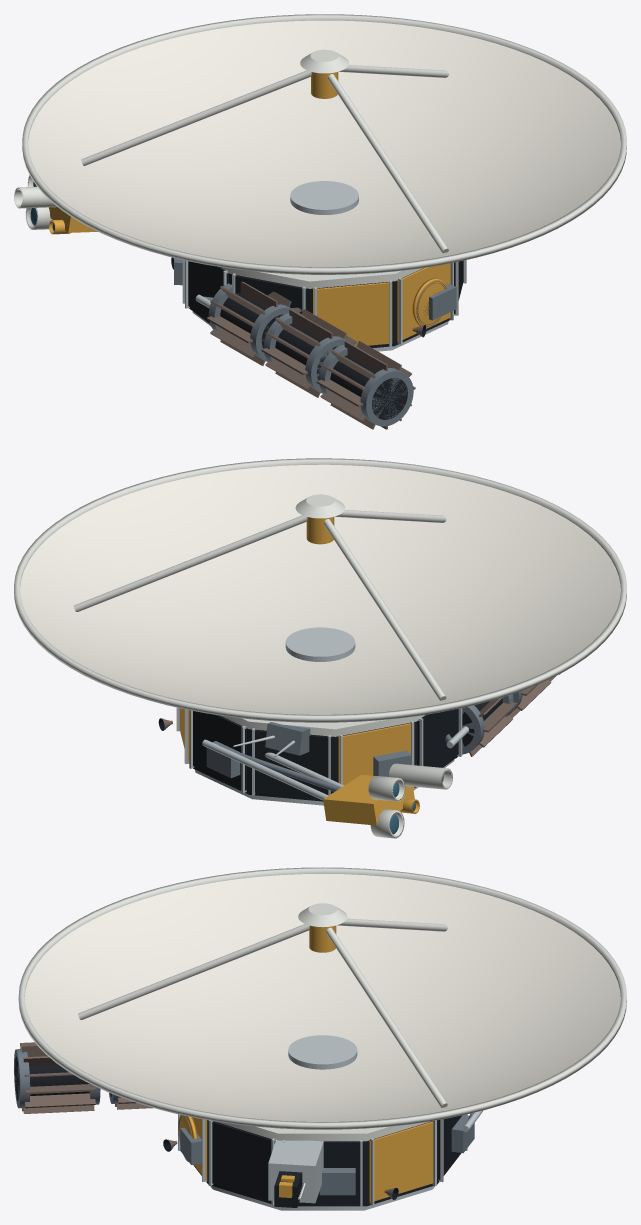
The model's file is voyager_probe.glb.
3 views of the same model, one above another, from view 1: azimuth 30°, elevation 25°; view 2: azimuth 150°, elevation 25°; view 3: azimuth 270°, elevation 25° (orthographic).
Parts seen in each view (by area): view 1: voyager_hgamesh_Warm_white_enamel, voyager_hgamesh_Pale_thermal_blanket, voyager_busequipment_bay_10mesh_Gold_thermal_insulation, voyager_rtg_boomdeploymentrtg_03mesh_Heat-stained_alloy, voyager_rtg_boomdeploymentrtg_02mesh_Heat-stained_alloy, voyager_rtg_boomdeploymentrtg_01mesh_Heat-stained_alloy, voyager_rtg_boomdeploymentrtg_03mesh_Machined_steel, voyager_busmesh_Pale_thermal_blanket, voyager_hgamesh_Satin_aluminum, voyager_rtg_boomdeploymentrtg_03mesh_Carbon_composite, voyager_busequipment_bay_01mesh_Gold_thermal_insulation, voyager_busequipment_bay_08mesh_Carbon_composite (+11 smaller); view 2: voyager_hgamesh_Warm_white_enamel, voyager_hgamesh_Pale_thermal_blanket, voyager_busequipment_bay_06mesh_Carbon_composite, voyager_busequipment_bay_07mesh_Gold_thermal_insulation, voyager_scan_platformboomazimuthelevationmesh_Gold_thermal_i, voyager_busequipment_bay_05mesh_Carbon_composite, voyager_hgamesh_Satin_aluminum, voyager_busequipment_bay_08mesh_Carbon_composite, voyager_busmesh_Pale_thermal_blanket, voyager_scan_platformboommesh_Satin_aluminum, voyager_busmesh_Carbon_composite, voyager_scan_platformboomazimuthelevationnarrow_anglemesh_Pa (+11 smaller); view 3: voyager_hgamesh_Warm_white_enamel, voyager_hgamesh_Pale_thermal_blanket, voyager_busequipment_bay_04mesh_Gold_thermal_insulation, voyager_busequipment_bay_02mesh_Carbon_composite, voyager_rtg_boomdeploymentrtg_03mesh_Heat-stained_alloy, voyager_mag_boommesh_Satin_aluminum, voyager_hgamesh_Satin_aluminum, voyager_busmesh_Pale_thermal_blanket, voyager_busequipment_bay_03mesh_Carbon_composite, voyager_busmesh_Carbon_composite, voyager_rtg_boomdeploymentrtg_03mesh_Carbon_composite, voyager_busequipment_bay_03mesh_Machined_steel (+9 smaller).
Part boxes in pixels (box(x1,y1,x2,y2)): voyager_hgamesh_Warm_white_enamel: box(28, 20, 620, 267); voyager_hgamesh_Pale_thermal_blanket: box(22, 14, 626, 274); voyager_busequipment_bay_10mesh_Gold_thermal_insulation: box(313, 282, 392, 345); voyager_rtg_boomdeploymentrtg_03mesh_Heat-stained_alloy: box(316, 341, 415, 429); voyager_rtg_boomdeploymentrtg_02mesh_Heat-stained_alloy: box(261, 309, 356, 397); voyager_rtg_boomdeploymentrtg_01mesh_Heat-stained_alloy: box(206, 281, 301, 365); voyager_rtg_boomdeploymentrtg_03mesh_Machined_steel: box(319, 344, 413, 426); voyager_busmesh_Pale_thermal_blanket: box(221, 267, 422, 288); voyager_hgamesh_Satin_aluminum: box(290, 181, 358, 214); voyager_rtg_boomdeploymentrtg_03mesh_Carbon_composite: box(330, 355, 407, 419); voyager_busequipment_bay_01mesh_Gold_thermal_insulation: box(397, 263, 450, 341); voyager_busequipment_bay_08mesh_Carbon_composite: box(188, 261, 228, 318); voyager_hgamesh_Warm_white_enamel: box(20, 464, 620, 714); voyager_hgamesh_Pale_thermal_blanket: box(14, 458, 626, 722); voyager_busequipment_bay_06mesh_Carbon_composite: box(255, 730, 332, 797); voyager_busequipment_bay_07mesh_Gold_thermal_insulation: box(338, 723, 410, 785); voyager_scan_platformboomazimuthelevationmesh_Gold_thermal_i: box(323, 774, 414, 825); voyager_busequipment_bay_05mesh_Carbon_composite: box(193, 711, 246, 790); voyager_hgamesh_Satin_aluminum: box(285, 627, 355, 661); voyager_busequipment_bay_08mesh_Carbon_composite: box(417, 709, 458, 767); voyager_busmesh_Pale_thermal_blanket: box(220, 715, 424, 736); voyager_scan_platformboommesh_Satin_aluminum: box(202, 739, 343, 800); voyager_busmesh_Carbon_composite: box(193, 715, 457, 801); voyager_scan_platformboomazimuthelevationnarrow_anglemesh_Pa: box(389, 763, 452, 789); voyager_hgamesh_Warm_white_enamel: box(24, 874, 620, 1121); voyager_hgamesh_Pale_thermal_blanket: box(18, 867, 626, 1129); voyager_busequipment_bay_04mesh_Gold_thermal_insulation: box(369, 1121, 433, 1202); voyager_busequipment_bay_02mesh_Carbon_composite: box(212, 1121, 275, 1200); voyager_rtg_boomdeploymentrtg_03mesh_Heat-stained_alloy: box(20, 1042, 96, 1113); voyager_mag_boommesh_Satin_aluminum: box(268, 1139, 323, 1203); voyager_hgamesh_Satin_aluminum: box(288, 1035, 357, 1069); voyager_busmesh_Pale_thermal_blanket: box(215, 1121, 430, 1141); voyager_busequipment_bay_03mesh_Carbon_composite: box(299, 1141, 363, 1203); voyager_busmesh_Carbon_composite: box(193, 1120, 461, 1206); voyager_rtg_boomdeploymentrtg_03mesh_Carbon_composite: box(14, 1056, 89, 1100); voyager_busequipment_bay_03mesh_Machined_steel: box(319, 1168, 355, 1195).
Bounding box in the file's own units: 3.7 × 1.66 × 3.73.
